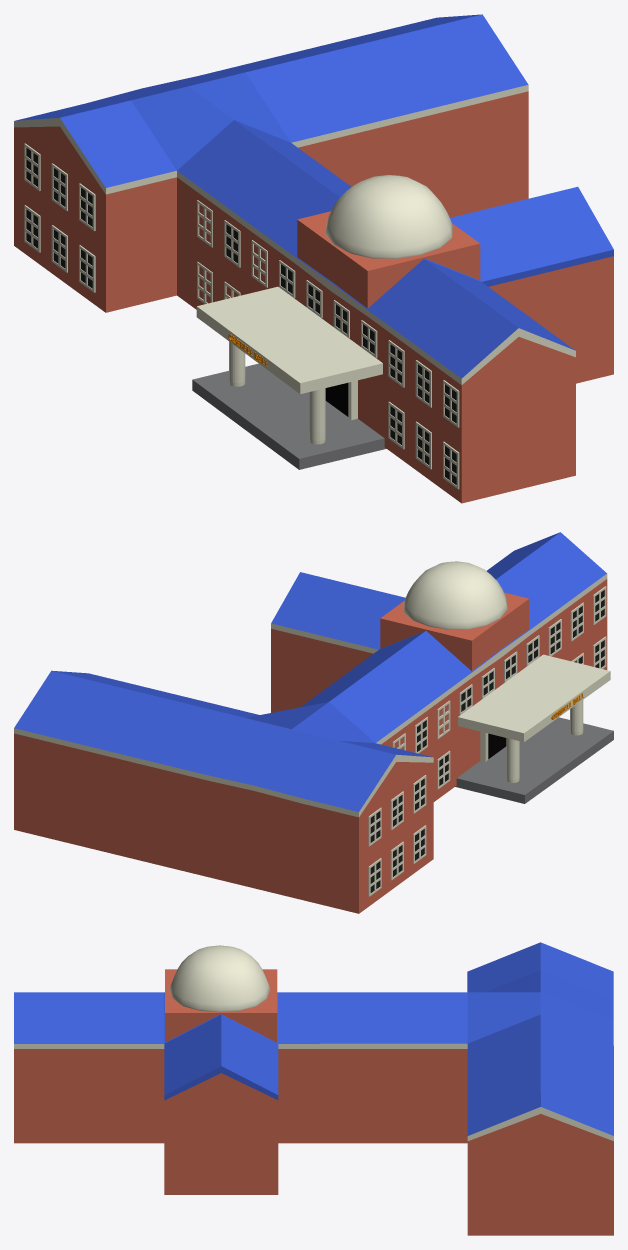
File: Cambell Hall.fbx
3 views of the same model, one above another, from view 1: azimuth 30°, elevation 25°; view 2: azimuth 150°, elevation 25°; view 3: azimuth 270°, elevation 25° (orthographic). The views are drawn at different scales.
Parts seen in each view (by area): view 1: Cambell Hall; view 2: Cambell Hall; view 3: Cambell Hall.
Boxes of the visible parts, x1=… form: Cambell Hall: x1=14, y1=14, x2=613, y2=503; Cambell Hall: x1=14, y1=532, x2=613, y2=913; Cambell Hall: x1=14, y1=942, x2=613, y2=1235.
Bounding box in the file's own units: 222 × 104 × 331.
